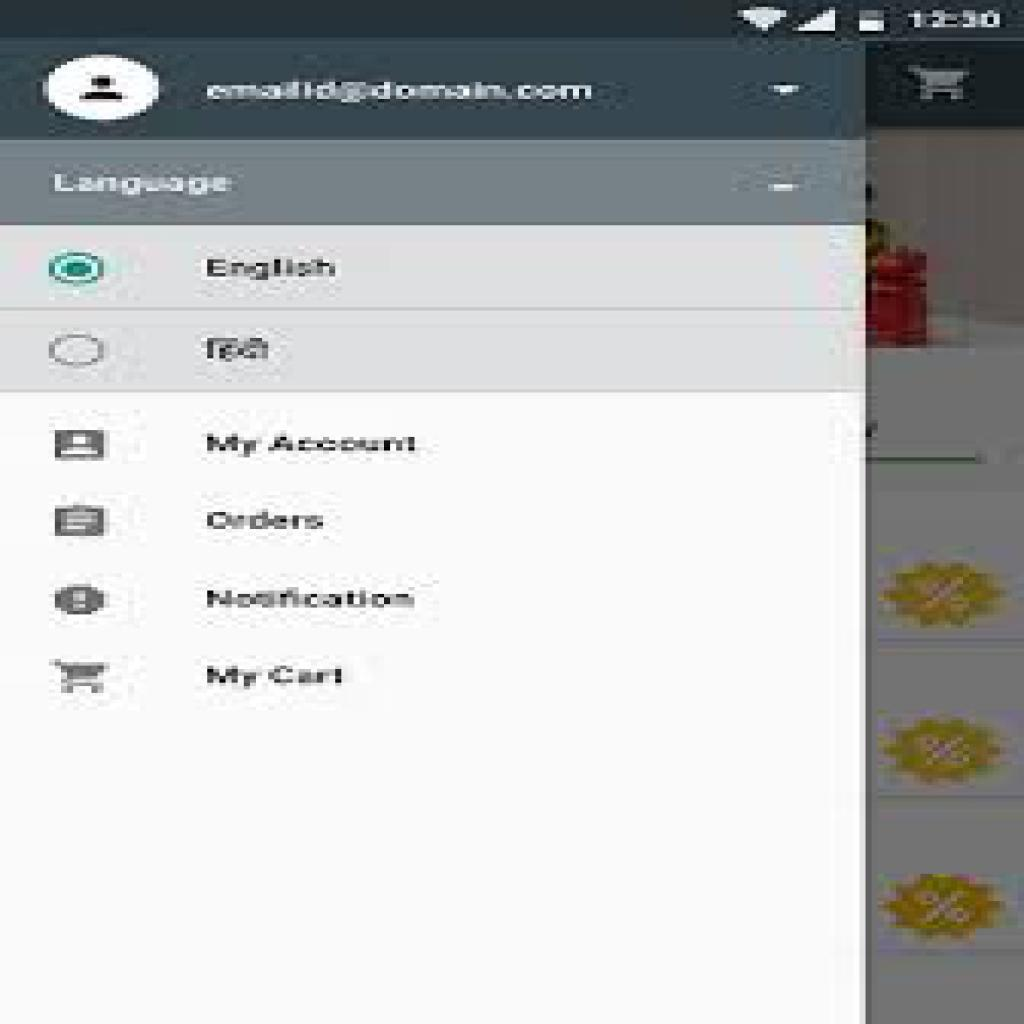icon: (47, 55, 157, 126), (47, 647, 119, 707), (51, 424, 112, 469), (50, 581, 112, 619), (52, 500, 109, 540), (762, 72, 809, 113)
label: (210, 82, 598, 108), (205, 582, 420, 618), (204, 430, 430, 462), (200, 662, 347, 699), (194, 255, 353, 287), (210, 505, 331, 537), (197, 332, 279, 371)
radio: (48, 248, 107, 291), (45, 331, 108, 368)
